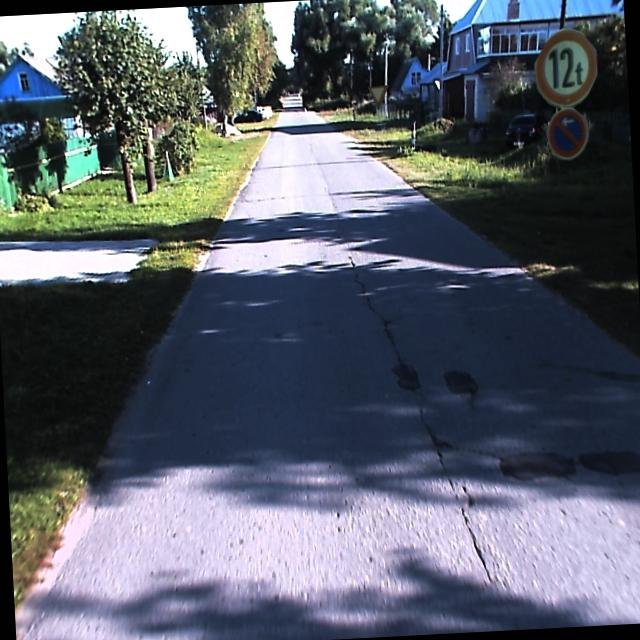road: (17, 107, 640, 640)
